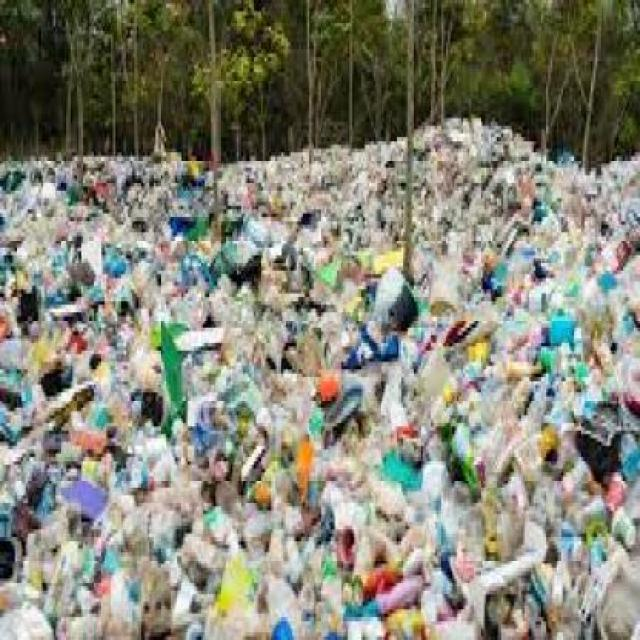garbage: (0, 111, 634, 626)
